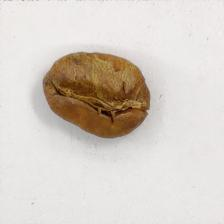NG: (45, 52, 144, 123)
